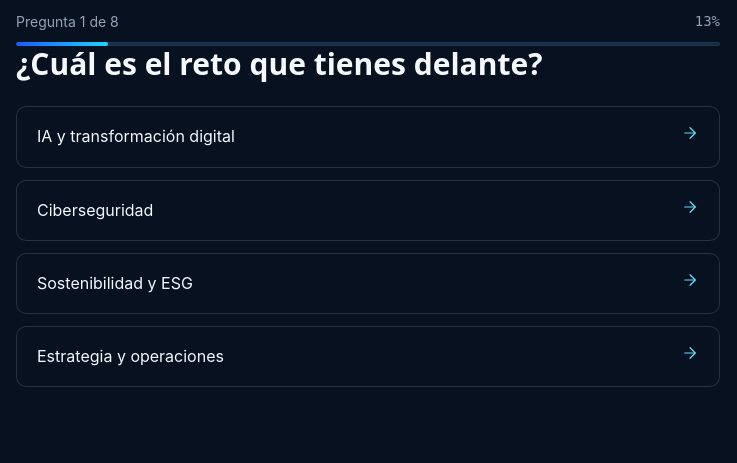
FormWizard — la pregunta 2 es condicional (CA-07, CA-08) › el reto de IA abre la pregunta de qué necesitas
Click the button "IA y transformación digital": (136, 136) [16, 106, 720, 168]
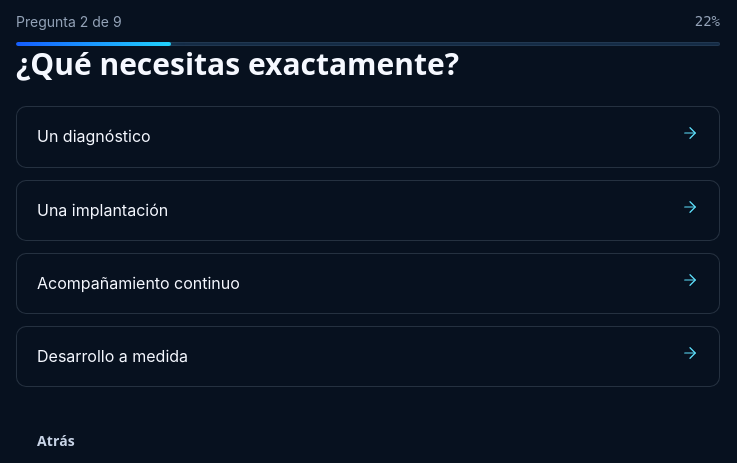
Now the text "¿Qué necesitas exactamente?" is shown, box [16, 46, 459, 82]
